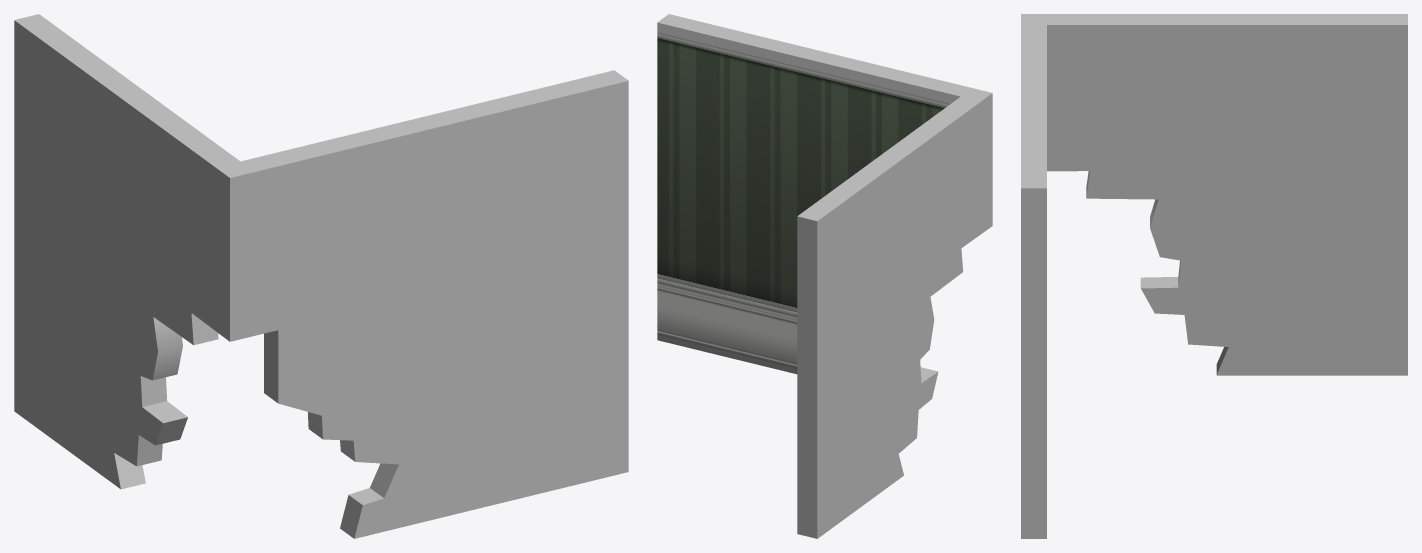
The model's file is wall01_corner_B_destroyed01.fbx.
3 views of the same model, side by side, from view 1: azimuth 30°, elevation 25°; view 2: azimuth 150°, elevation 25°; view 3: azimuth 270°, elevation 25° (orthographic). The views are drawn at different scales.
Visible parts, largest first — view 1: wall01_corner_B_destroyed01; view 2: wall01_corner_B_destroyed01; view 3: wall01_corner_B_destroyed01.
Boxes of the visible parts, x1,y1,x2,y2 form: wall01_corner_B_destroyed01: [14, 14, 628, 538]; wall01_corner_B_destroyed01: [657, 14, 992, 538]; wall01_corner_B_destroyed01: [1021, 14, 1407, 538].
Bounding box in the file's own units: 320 × 300 × 300.
